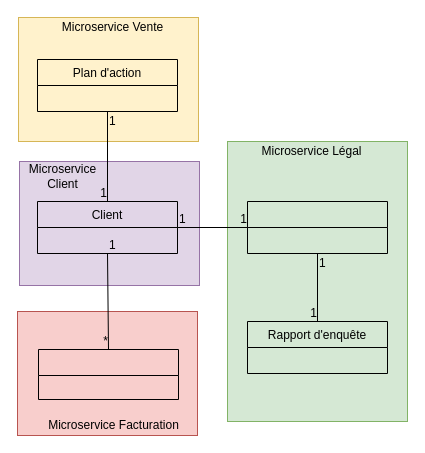
The diagram is 425 pixels wide and 453 high, and some of its shapes have lost their labels. The centre of each missing label's shape, as x and y in pixels:
"Contrat" belongs at point (317, 227).
"Facture" belongs at point (108, 374).
